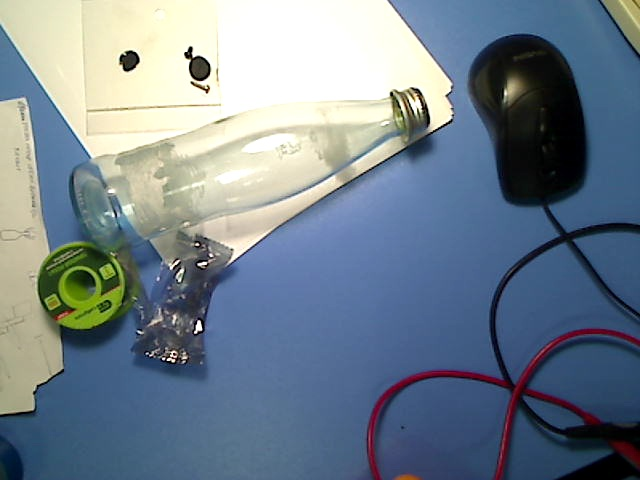bottle: (70, 87, 434, 253)
